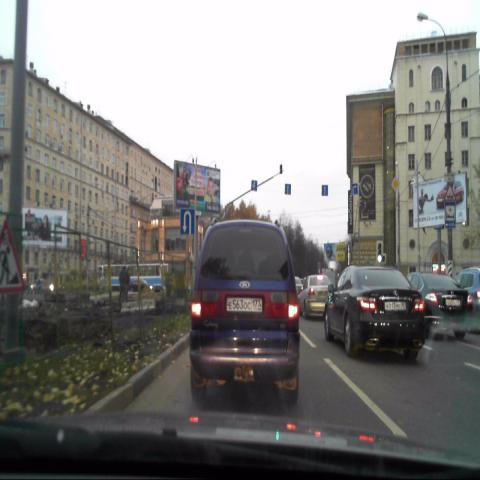6_3_1: (180, 208, 194, 235)
7_2: (444, 204, 456, 228)
